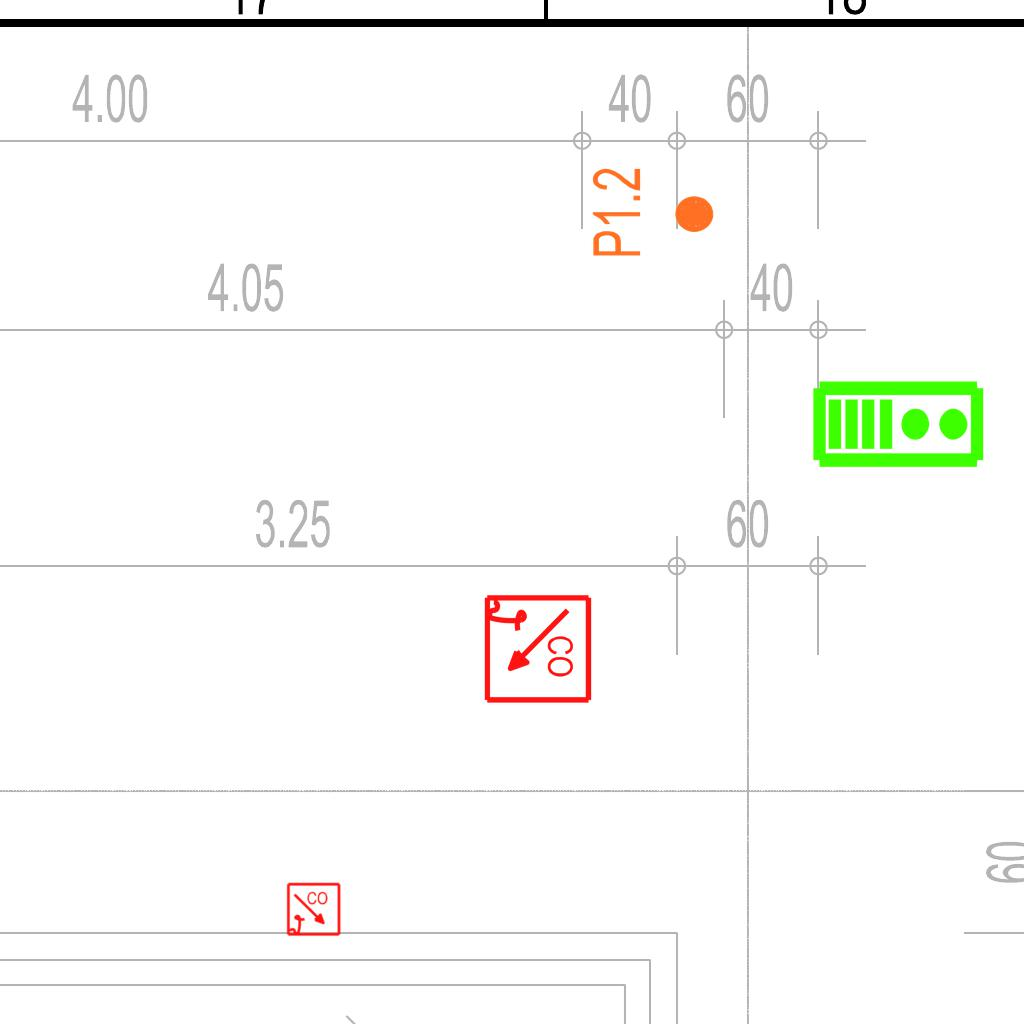Downlight_LED_Einbauleuchten_Flur: (589, 166, 717, 259)
Gegensprechanlage_mit_Video: (811, 375, 987, 470)
ROA_Rauchmelder_optisch_mit_Signalgeber_(Sockelsirene): (480, 593, 593, 706), (286, 882, 342, 938)
